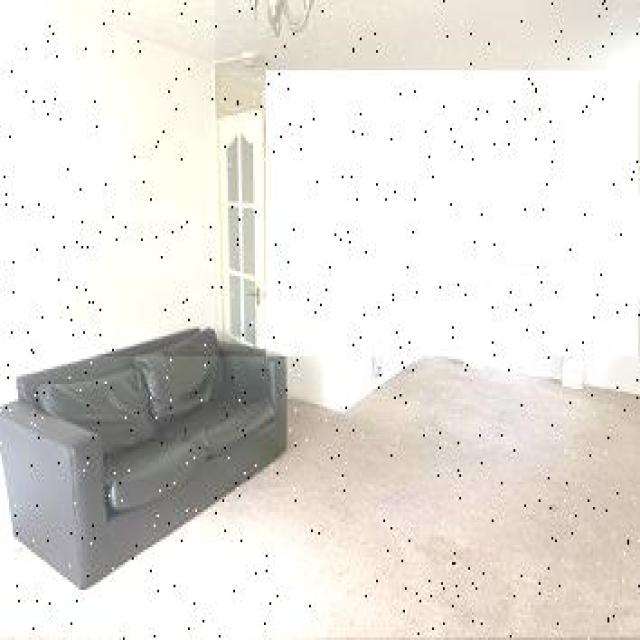Wall: (0, 359, 640, 637), (267, 71, 638, 409), (0, 1, 215, 404), (45, 0, 638, 105), (0, 457, 11, 530)
